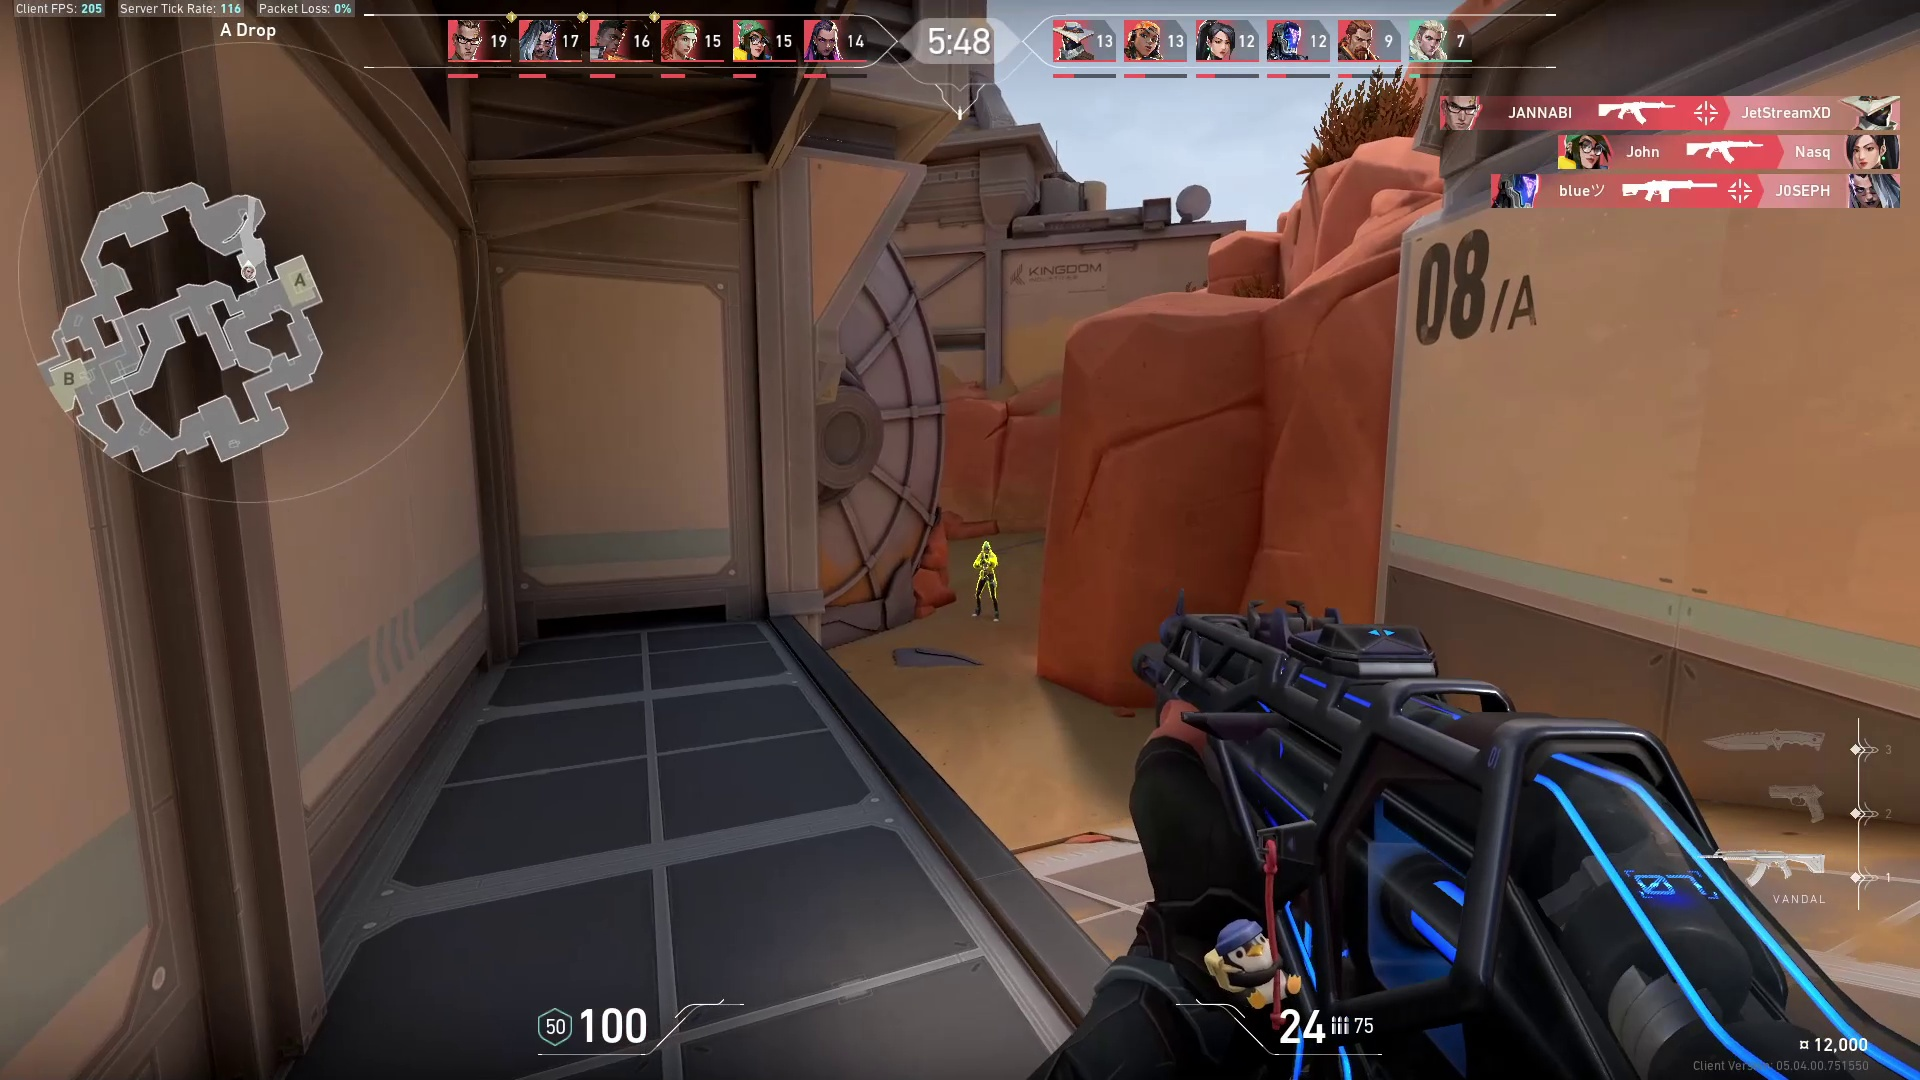enemy_body: (973, 551, 1002, 622)
enemy_head: (977, 537, 994, 555)
